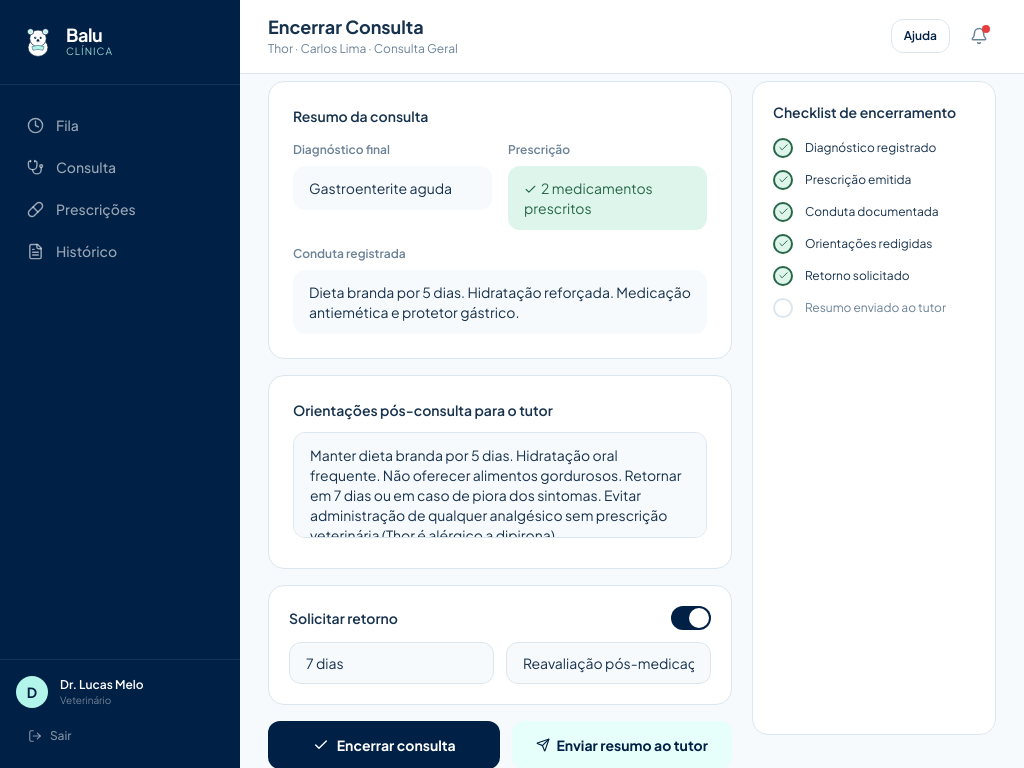
confirma alterações pendentes antes de encerrar a consulta
(page scrolled)
Step 1. Click the button "Encerrar consulta" → (384, 744), box [268, 720, 500, 767]
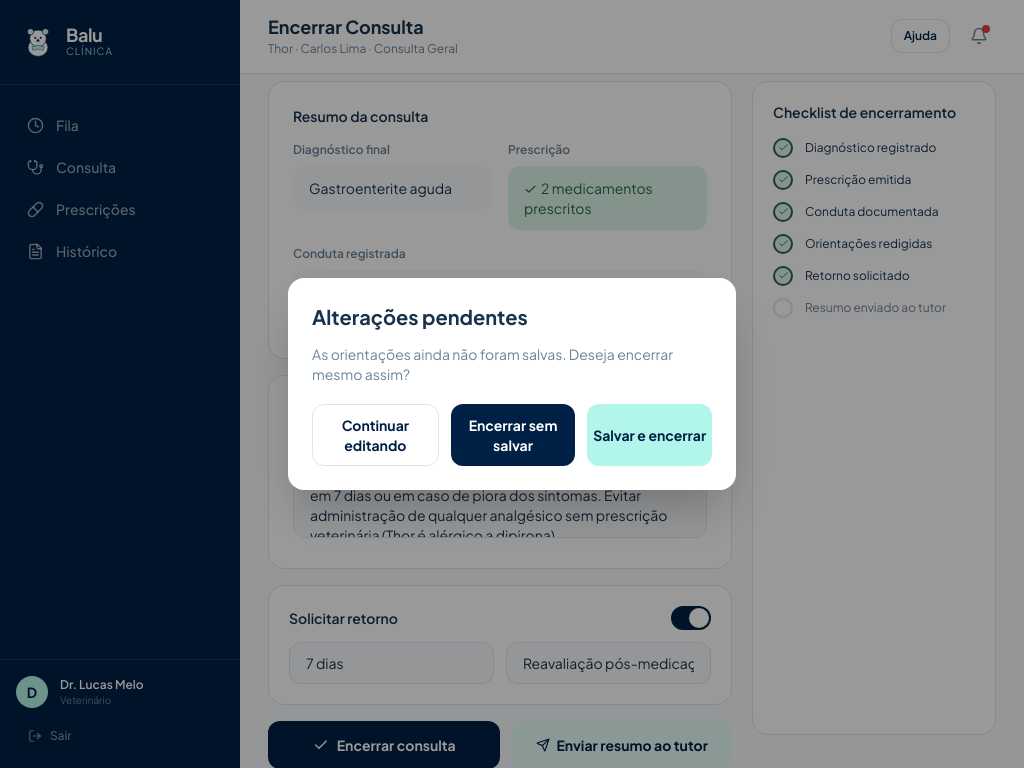
Expected: the text "orientações ainda não foram salvas" is shown, [312, 345, 673, 383]
Expected: the button "Continuar editando" is shown, [312, 404, 439, 466]
Expected: the button "Salvar e encerrar" is shown, [587, 404, 712, 466]
